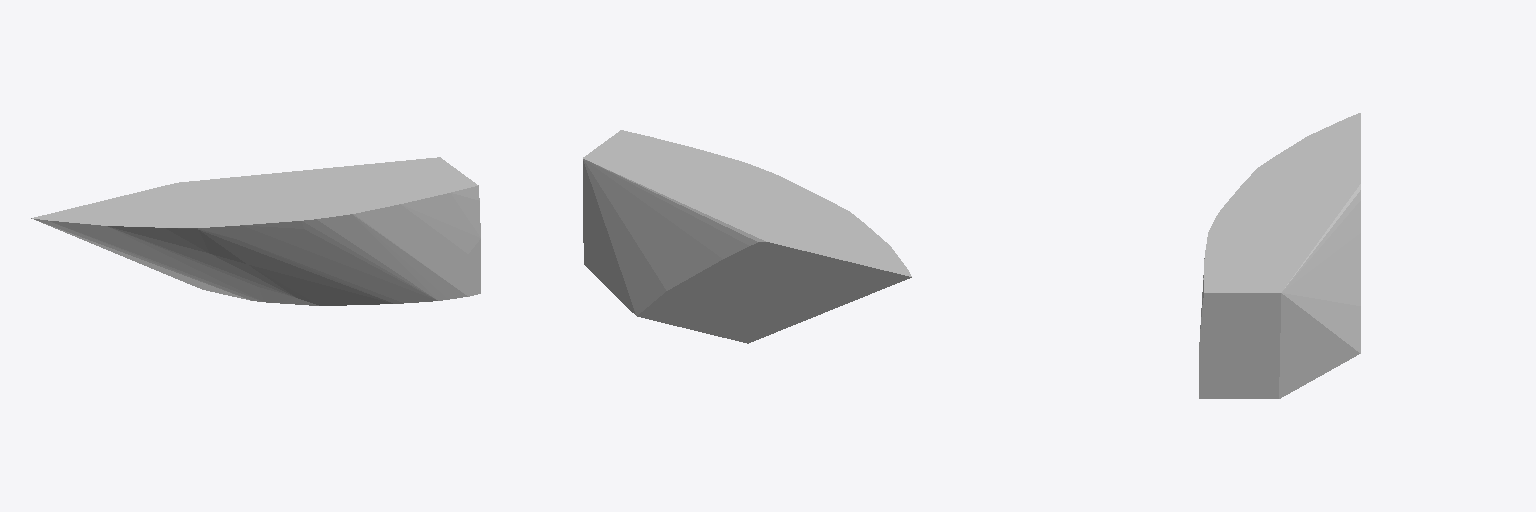
The model's file is phantom-elastrat_collision_208.obj.
3 renders of one model, left to right at view 1: azimuth 30°, elevation 25°; view 2: azimuth 150°, elevation 25°; view 3: azimuth 270°, elevation 25°, orthographic.
Bounding box in the file's own units: 0.009 × 0.0025 × 0.0034.